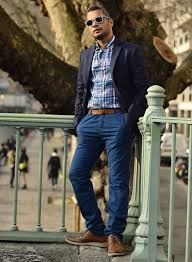C_jeans: (72, 112, 133, 231)
F_belt: (78, 105, 136, 120)
